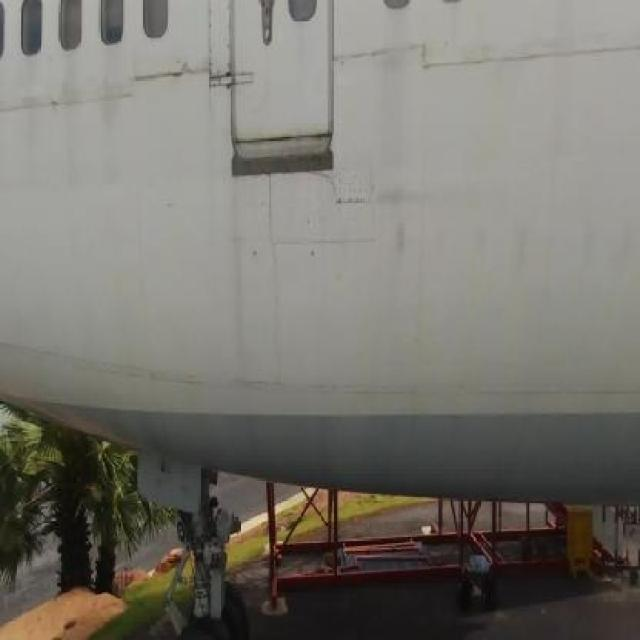Scartch: (163, 51, 203, 92), (404, 37, 441, 80), (39, 97, 72, 118)
